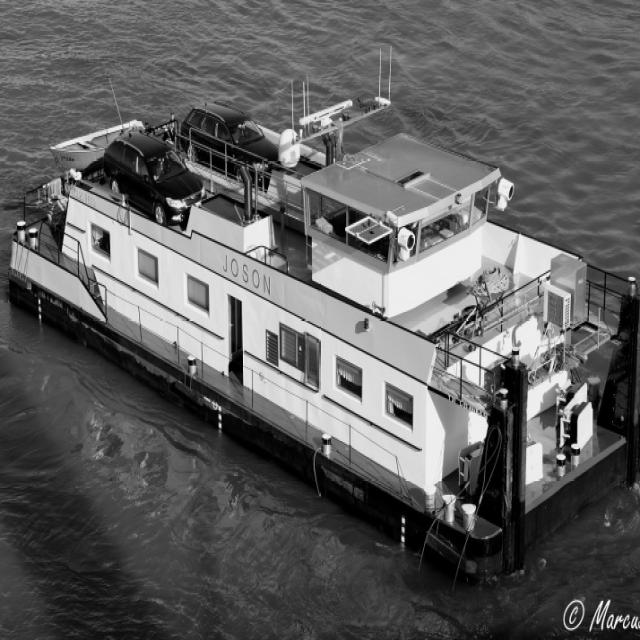tugboat: (3, 43, 640, 615)
